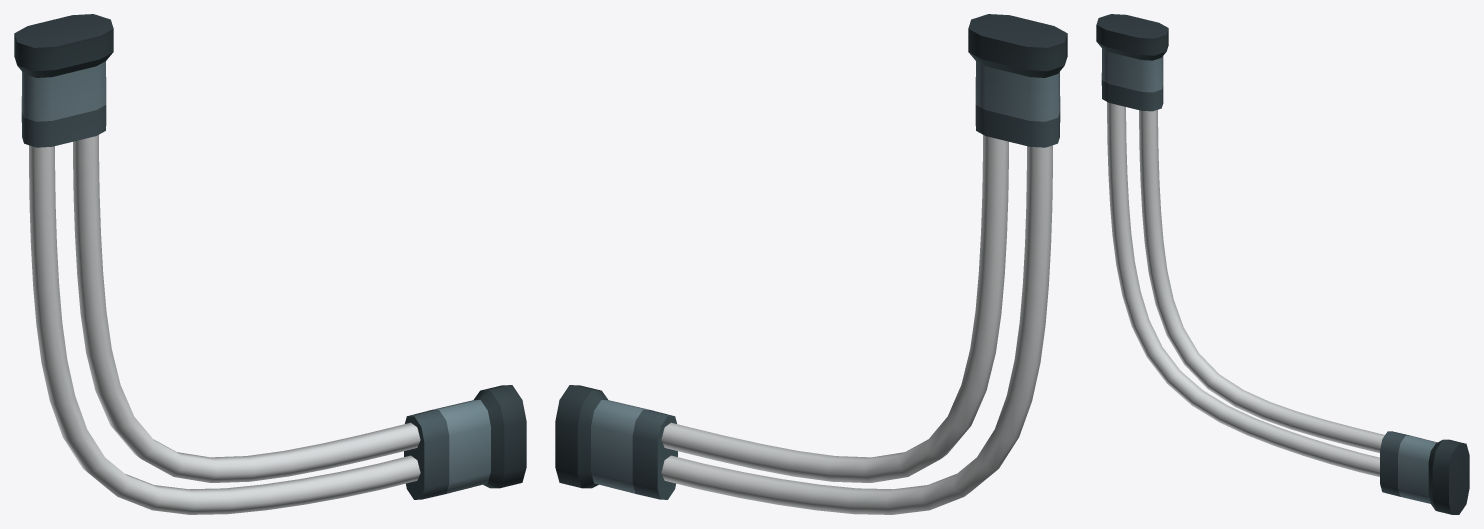
The model's file is Cable_type_B_008.glb.
The picture shows the model from 3 angles, left to right: view 1: azimuth 30°, elevation 25°; view 2: azimuth 150°, elevation 25°; view 3: azimuth 330°, elevation 25°; orthographic projection. The views are drawn at different scales.
Visible parts, largest first — view 1: Cable_type_B_008; view 2: Cable_type_B_008; view 3: Cable_type_B_008.
Part boxes in pixels (x1=…): Cable_type_B_008: x1=14, y1=14, x2=526, y2=514; Cable_type_B_008: x1=555, y1=14, x2=1067, y2=514; Cable_type_B_008: x1=1096, y1=14, x2=1469, y2=514.
Bounding box in the file's own units: 0.792 × 0.8577 × 0.0783.
1 material, 1 textured.
